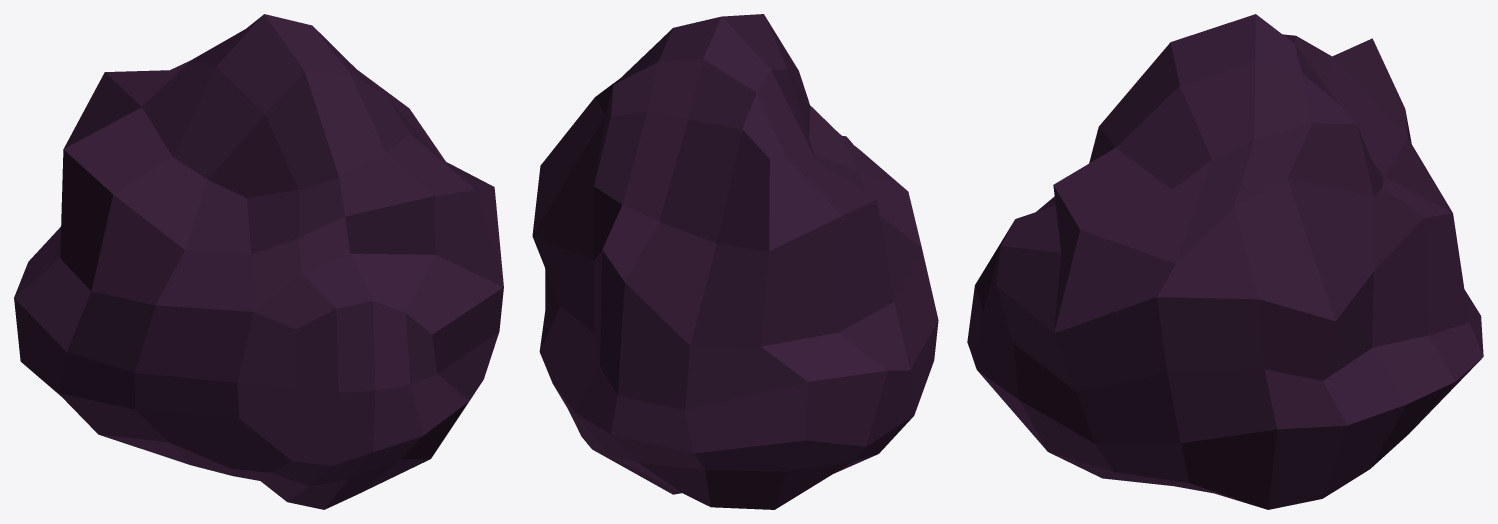
Rendered from PROP_Rock 1.FBX.
3 views of the same model, side by side, from view 1: azimuth 30°, elevation 25°; view 2: azimuth 150°, elevation 25°; view 3: azimuth 270°, elevation 25° (orthographic). The views are drawn at different scales.
Visible parts, largest first — view 1: rock1; view 2: rock1; view 3: rock1.
Boxes of the visible parts, x1,y1,x2,y2 form: rock1: (14,14,503,509); rock1: (532,14,938,509); rock1: (967,14,1483,509).
Size of the model in its own units: 2.02 by 2.21 by 2.23.
